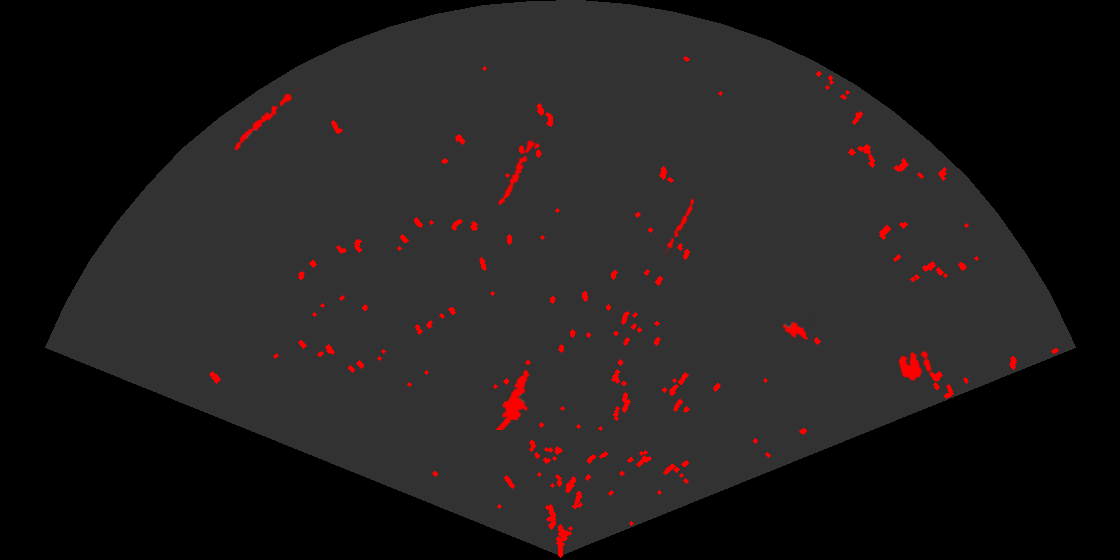AUV: (781, 314, 813, 342)
ball: (897, 349, 933, 383)
chain: (233, 86, 298, 152), (496, 136, 537, 208), (662, 196, 696, 254)
frogman: (494, 368, 531, 430)
